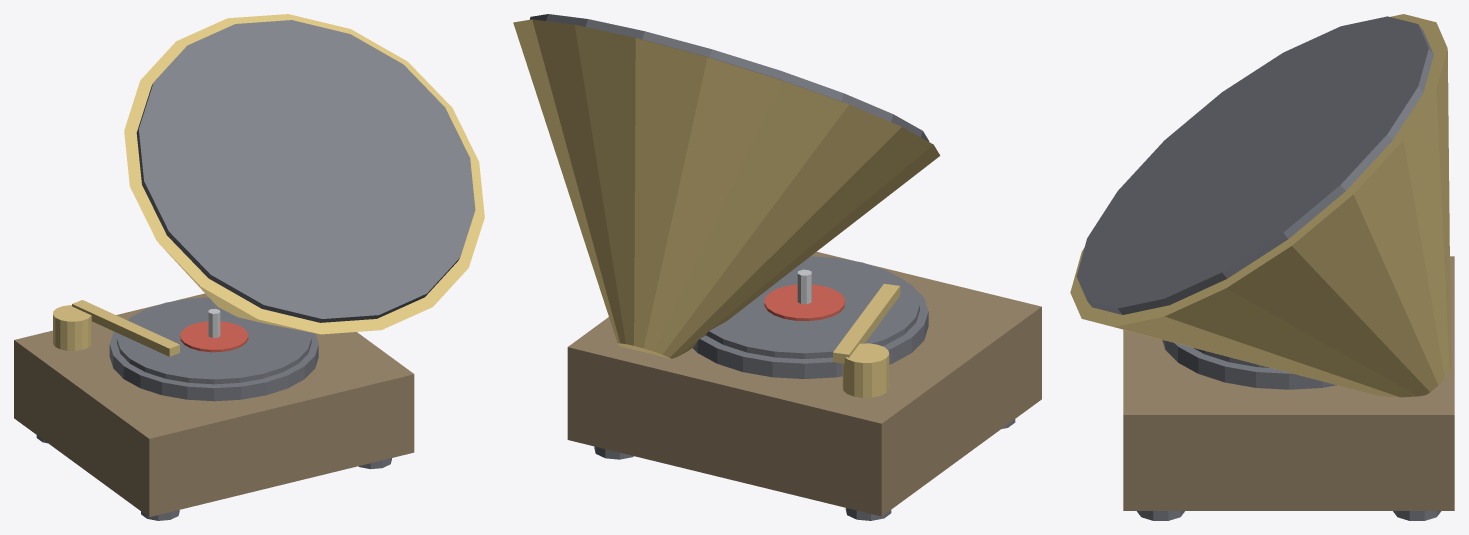
File: gramophone.glb
The picture shows the model from 3 angles, left to right: view 1: azimuth 30°, elevation 25°; view 2: azimuth 150°, elevation 25°; view 3: azimuth 270°, elevation 25°; orthographic projection. The views are drawn at different scales.
Visible parts, largest first — view 1: gramophone; view 2: gramophone; view 3: gramophone.
Boxes of the visible parts, x1,y1,x2,y2 form: gramophone: (14,14,484,520); gramophone: (513,14,1041,520); gramophone: (1070,14,1454,520).
Size of the model in its own units: 0.2384 by 0.2228 by 0.174.
